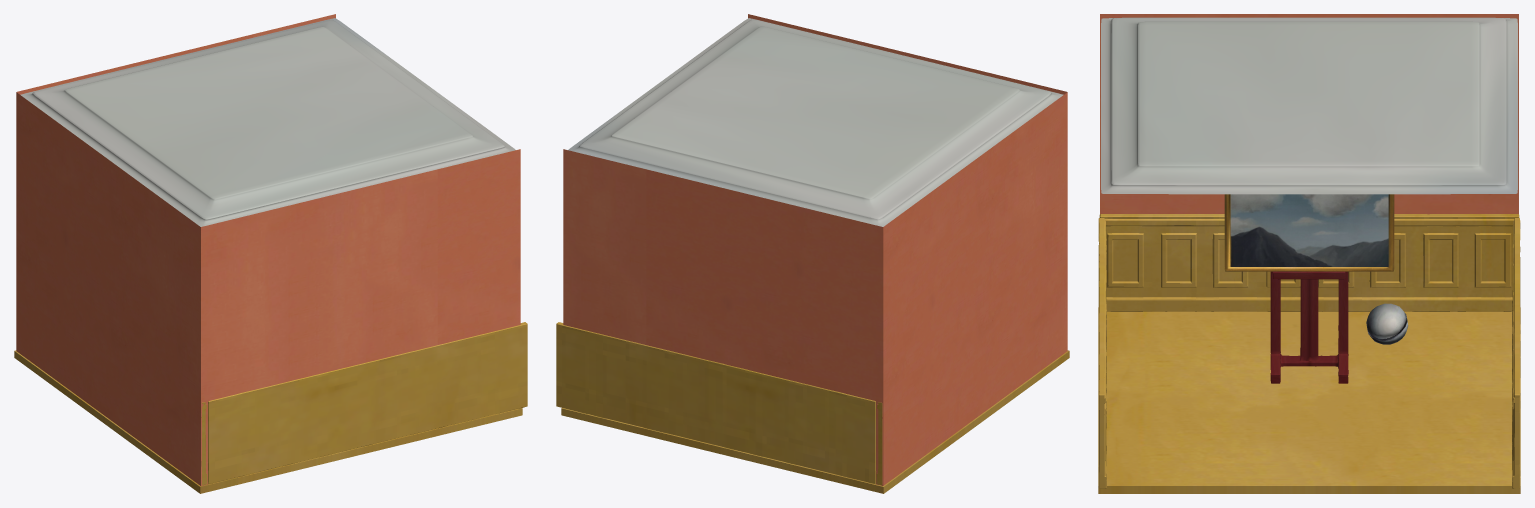
File: MagritteInside_Projection.fbx
3 views of the same model, side by side, from view 1: azimuth 30°, elevation 25°; view 2: azimuth 150°, elevation 25°; view 3: azimuth 270°, elevation 25° (orthographic). The views are drawn at different scales.
Parts seen in each view (by area): view 1: Wall, Roof, Wood_around.001, Floor; view 2: Wall, Roof, Wood_around.001, Floor; view 3: Roof, Floor, Wood_around, painting, Wall, Wood_around.001, Easle_Stand, Frame, Ball, Bottom_clip.
Part boxes in pixels (<box>): Wall: <box>16,14,520,485</box>; Roof: <box>20,18,515,226</box>; Wood_around.001: <box>208,322,527,483</box>; Floor: <box>14,350,522,493</box>; Wall: <box>563,14,1067,485</box>; Roof: <box>568,18,1063,226</box>; Wood_around.001: <box>556,322,876,483</box>; Floor: <box>561,350,1069,493</box>; Roof: <box>1101,17,1517,194</box>; Floor: <box>1098,307,1520,493</box>; Wood_around: <box>1099,214,1519,311</box>; painting: <box>1230,194,1388,266</box>; Wall: <box>1100,14,1518,214</box>; Wood_around.001: <box>1098,218,1520,488</box>; Easle_Stand: <box>1270,271,1348,383</box>; Frame: <box>1224,194,1394,271</box>; Ball: <box>1366,303,1408,344</box>; Bottom_clip: <box>1272,271,1345,279</box>.
Bounding box in the file's own units: 5084 × 4065 × 4993.
